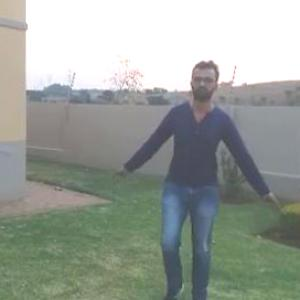land: (121, 63, 274, 298)
